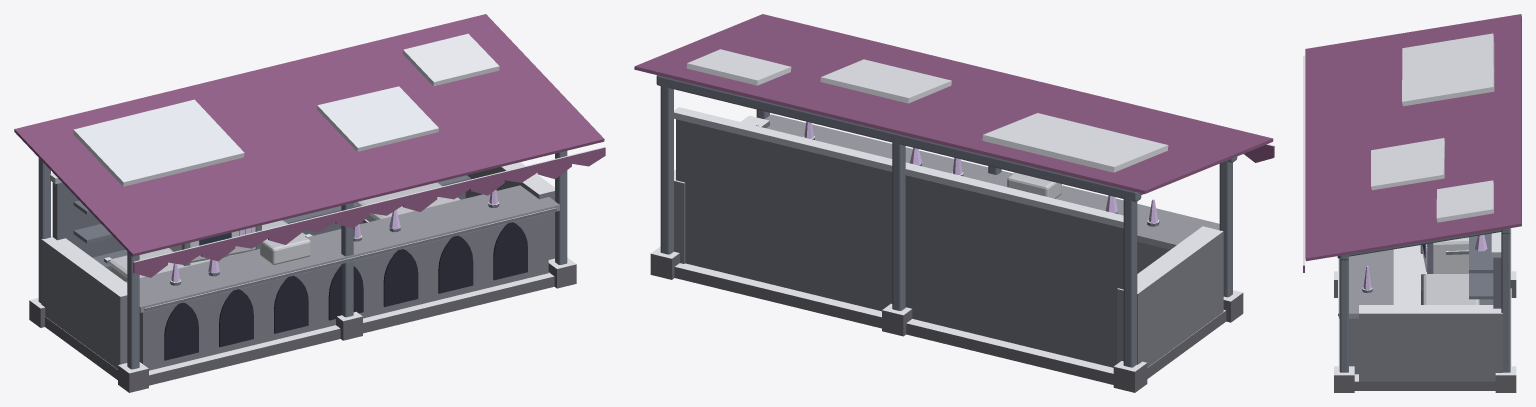
The model's file is PR_Banca_Mercado_A.fbx.
3 renders of one model, left to right at view 1: azimuth 30°, elevation 25°; view 2: azimuth 150°, elevation 25°; view 3: azimuth 270°, elevation 25°, orthographic. The views are drawn at different scales.
Parts seen in each view (by area): view 1: PR_Banca_Mercado_A; view 2: PR_Banca_Mercado_A; view 3: PR_Banca_Mercado_A.
Part boxes in pixels (box(x1,y1,x2,y2)): PR_Banca_Mercado_A: box(14, 14, 605, 392); PR_Banca_Mercado_A: box(634, 14, 1274, 392); PR_Banca_Mercado_A: box(1303, 14, 1521, 392).
Bounding box in the file's own units: 8.6 × 3.35 × 3.79.
